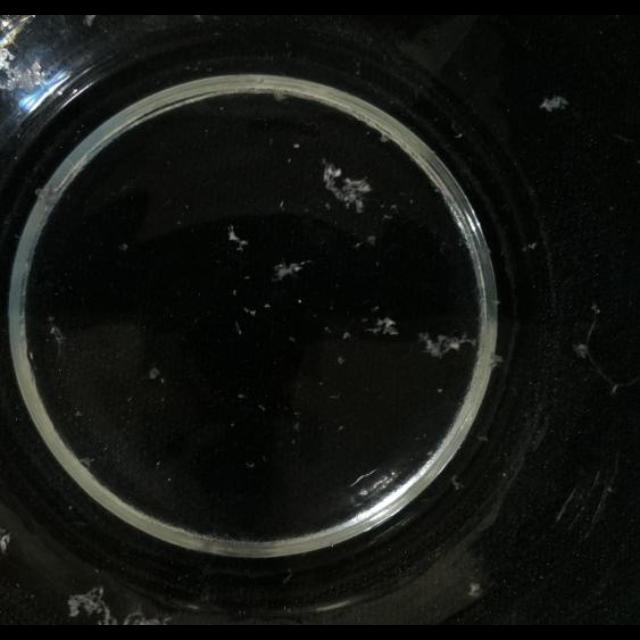Fibre: (62, 590, 172, 626), (321, 160, 374, 212), (417, 330, 475, 360), (272, 259, 308, 281), (366, 316, 400, 338), (538, 96, 570, 114), (227, 226, 249, 250), (148, 368, 160, 380)
